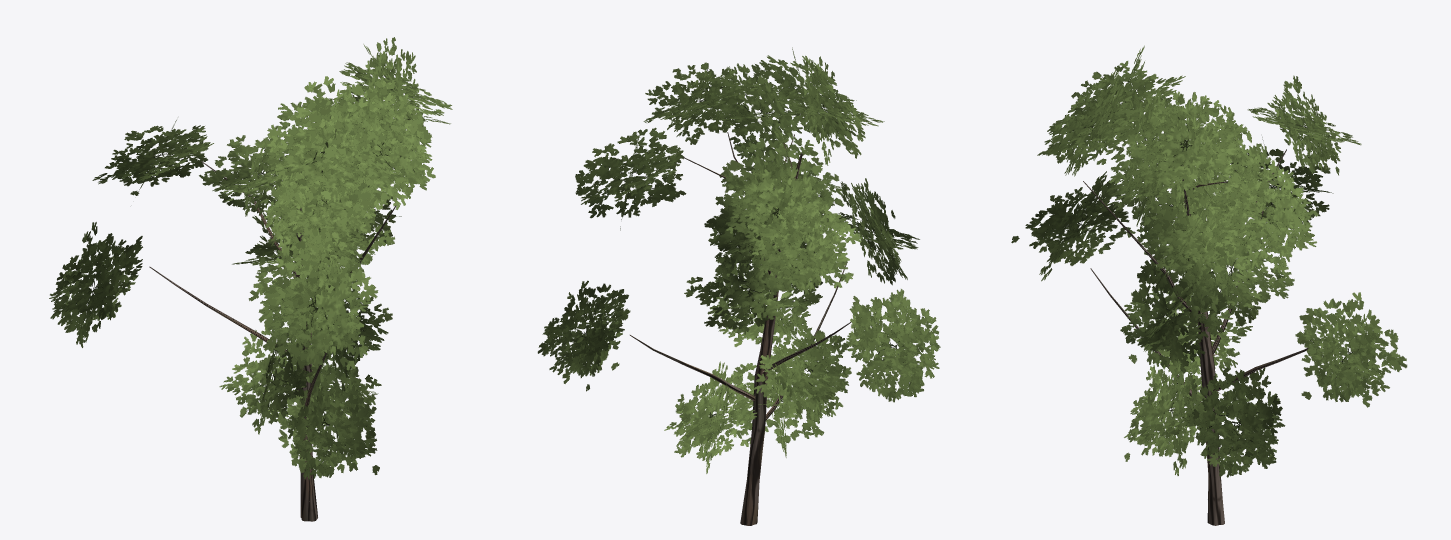
Rendered from sapling-b.lod0.glb.
The picture shows the model from 3 angles, left to right: view 1: azimuth 30°, elevation 25°; view 2: azimuth 150°, elevation 25°; view 3: azimuth 270°, elevation 25°; orthographic projection. The views are drawn at different scales.
Visible parts, largest first — view 1: foliage, bark; view 2: foliage, bark; view 3: foliage, bark.
Boxes of the visible parts, <box> form: foliage: <box>49,37,452,479</box>; bark: <box>149,161,396,521</box>; foliage: <box>537,47,940,473</box>; bark: <box>630,132,850,525</box>; foliage: <box>1011,45,1407,477</box>; bark: <box>1083,149,1307,525</box>.
Size of the model in its own units: 1.17 by 1.3 by 1.06.
Materials: 3 (2 with a texture image).
